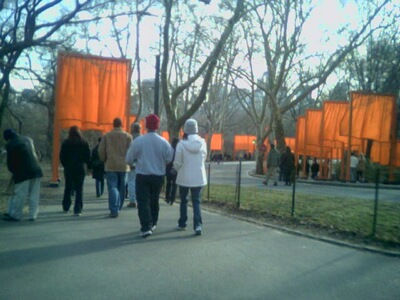person: (126, 112, 176, 238), (173, 118, 208, 234)
